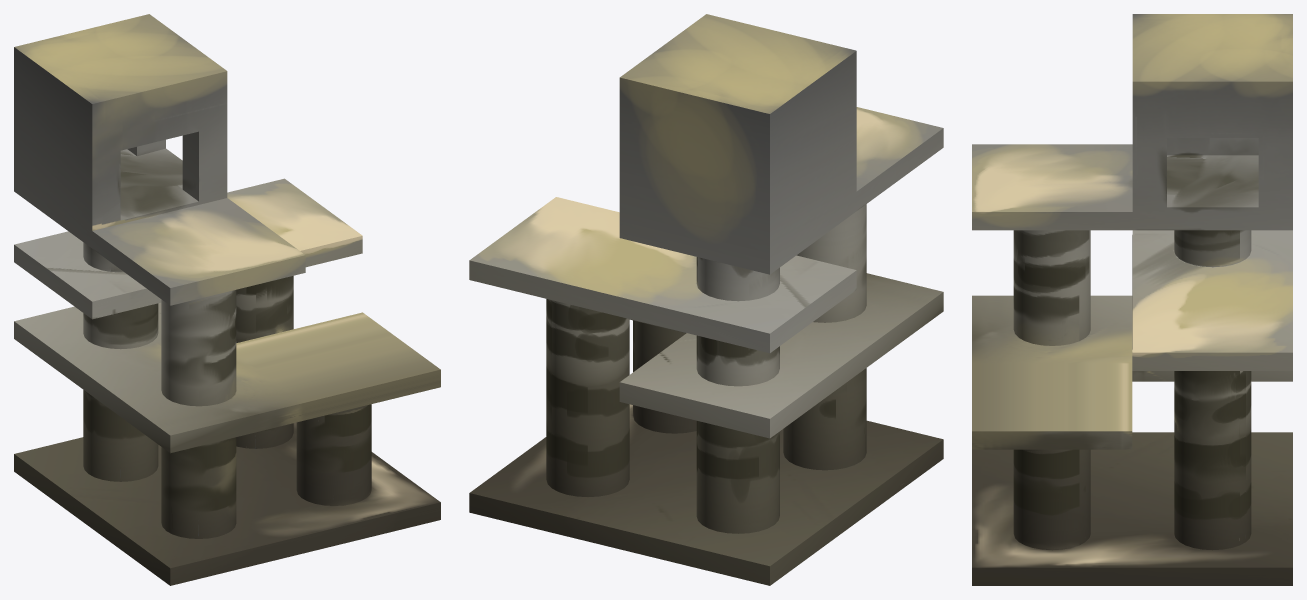
Rendered from CatTree.fbx.
The picture shows the model from 3 angles, left to right: view 1: azimuth 30°, elevation 25°; view 2: azimuth 150°, elevation 25°; view 3: azimuth 270°, elevation 25°; orthographic projection. The views are drawn at different scales.
Visible parts, largest first — view 1: M_CatTree; view 2: M_CatTree; view 3: M_CatTree.
Boxes of the visible parts, x1,y1,x2,y2 form: M_CatTree: [14, 14, 440, 585]; M_CatTree: [469, 14, 943, 585]; M_CatTree: [972, 14, 1292, 585].
Size of the model in its own units: 122 by 183 by 122.
